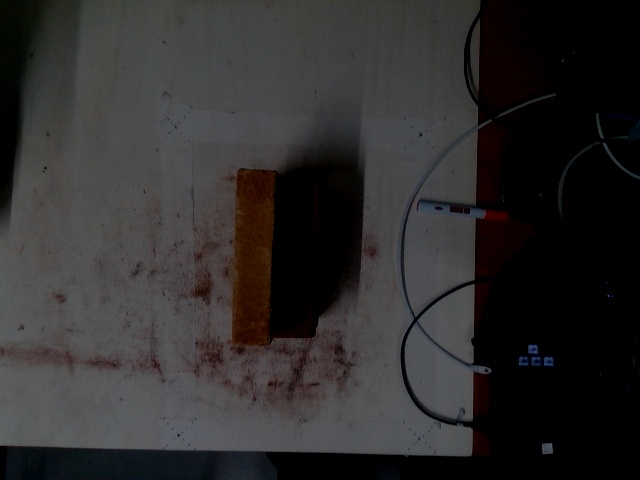brick-side: (233, 168, 273, 343)
